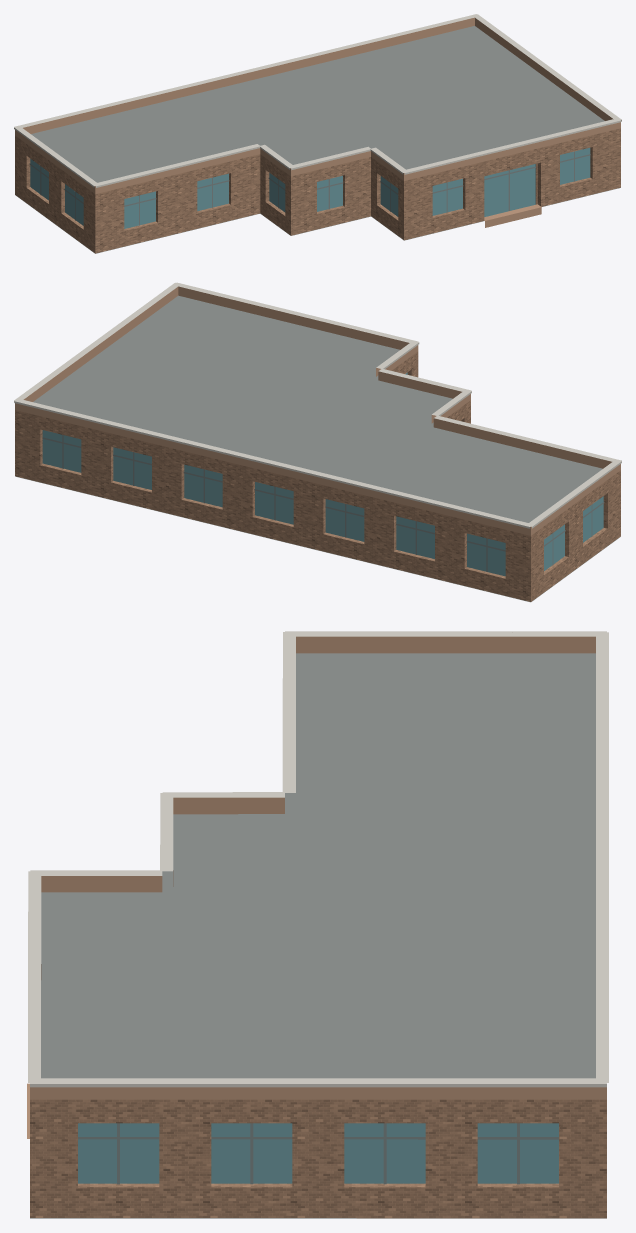
3 views of the same model, one above another, from view 1: azimuth 30°, elevation 25°; view 2: azimuth 150°, elevation 25°; view 3: azimuth 270°, elevation 25° (orthographic). The views are drawn at different scales.
Parts seen in each view (by area): view 1: osm533336941__roof, osm533336941__wall, osm533336941__parapet, osm533336941__glass, osm533336941__trim, osm533336941__frame, osm533336941__entranceThreshold_0; view 2: osm533336941__roof, osm533336941__wall, osm533336941__parapet, osm533336941__glass, osm533336941__trim, osm533336941__frame; view 3: osm533336941__roof, osm533336941__wall, osm533336941__trim, osm533336941__glass, osm533336941__parapet, osm533336941__frame.
Boxes of the visible parts, x1,y1,x2,y2 form: osm533336941__roof: [15, 26, 620, 253]; osm533336941__wall: [15, 128, 620, 253]; osm533336941__parapet: [15, 17, 620, 194]; osm533336941__glass: [30, 147, 590, 228]; osm533336941__trim: [14, 14, 621, 187]; osm533336941__frame: [29, 151, 590, 225]; osm533336941__entranceThreshold_0: [484, 204, 541, 227]; osm533336941__roof: [15, 295, 620, 602]; osm533336941__wall: [15, 351, 620, 601]; osm533336941__parapet: [15, 286, 620, 535]; osm533336941__glass: [42, 372, 603, 576]; osm533336941__trim: [14, 282, 621, 528]; osm533336941__frame: [42, 435, 604, 572]; osm533336941__roof: [30, 653, 606, 1218]; osm533336941__wall: [30, 1099, 606, 1218]; osm533336941__trim: [28, 631, 608, 1087]; osm533336941__glass: [78, 1123, 558, 1183]; osm533336941__parapet: [30, 636, 606, 1099]; osm533336941__frame: [78, 1123, 558, 1184].
Bounding box in the file's own units: 29.46 × 4.5 × 16.01.
8 materials, 1 textured.
